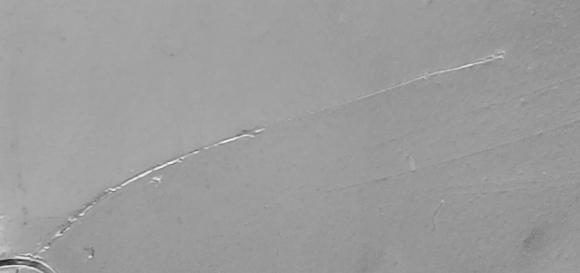scratch: (1, 0, 580, 273)
